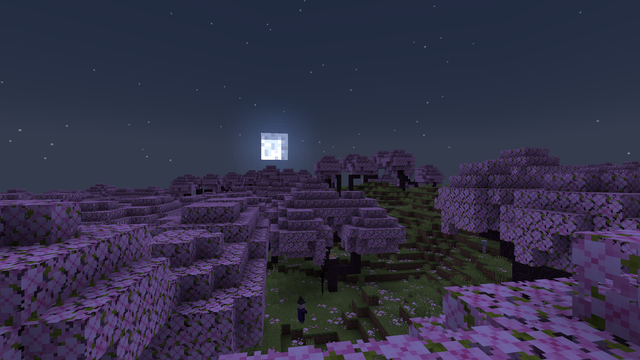endermens: (319, 270, 324, 297)
sorcieres: (297, 300, 303, 324)
squelettes: (479, 240, 488, 259)
